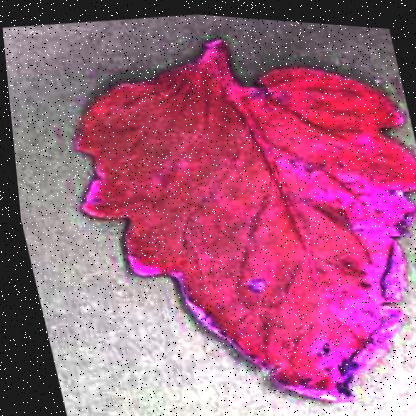BACTERIAL SPOT: (39, 7, 415, 415)
